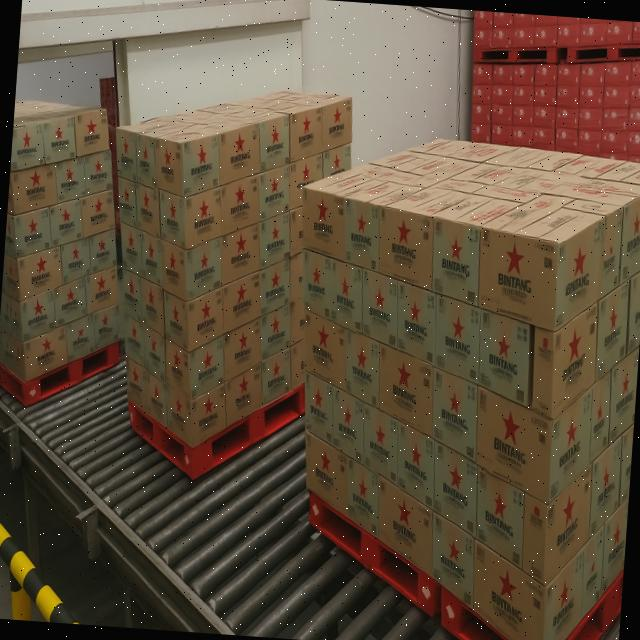pallet: (271, 114, 640, 640), (89, 75, 388, 498), (0, 91, 145, 424)
